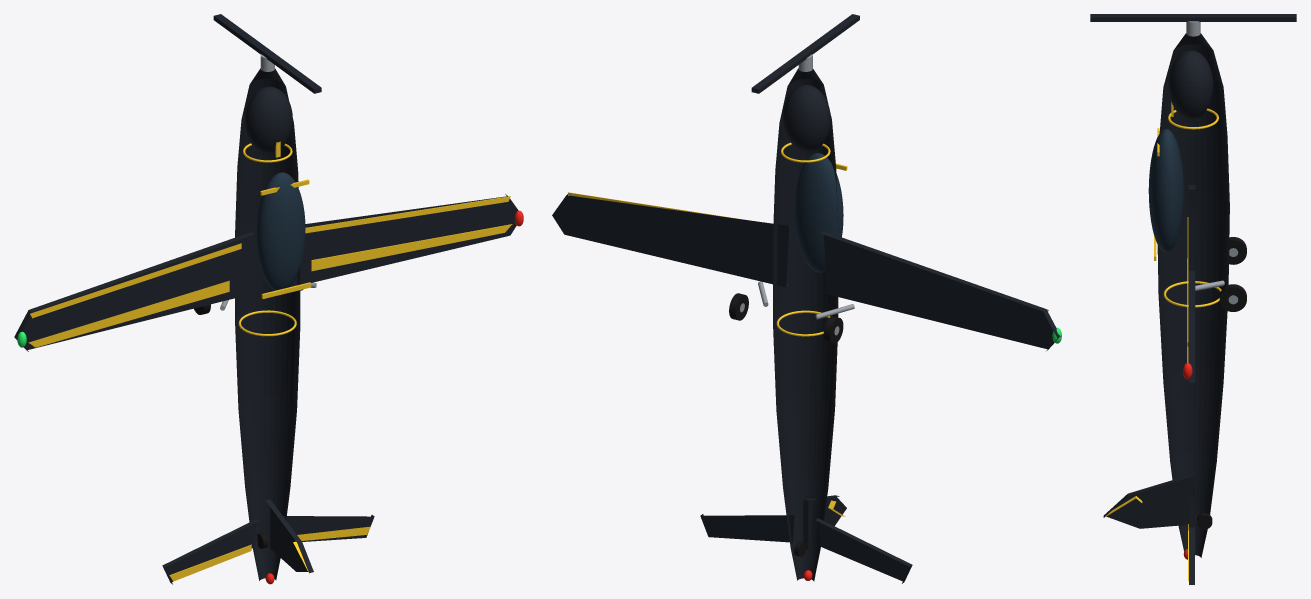
3 renders of one model, left to right at view 1: azimuth 30°, elevation 25°; view 2: azimuth 150°, elevation 25°; view 3: azimuth 270°, elevation 25°, orthographic. The views are drawn at different scales.
Visible parts, largest first — view 1: Fuselage, Left Main Wing, Right Main Wing, Cockpit Canopy, Engine Cowling, Right Wing Yellow Stripe, Left Wing Yellow Stripe, Left Tailplane, Vertical Tail, Right Tailplane, Left Wing Leading Stripe, Right Wing Leading Stripe (+1 smaller); view 2: Fuselage, Left Main Wing, Right Main Wing, Cockpit Canopy, Engine Cowling, Left Tailplane, Right Tailplane, Vertical Tail, Propeller Blade_1; view 3: Fuselage, Cockpit Canopy, Vertical Tail, Engine Cowling, Right Main Wing, Propeller Blade, Propeller Blade_1, Wheel 1.15, Right Tailplane, Wheel -1.15, Fuselage Yellow Band.
Part boxes in pixels (bbox=[...]): Fuselage: bbox=[235, 68, 300, 580]; Left Main Wing: bbox=[14, 232, 253, 351]; Right Main Wing: bbox=[289, 194, 518, 287]; Cockpit Canopy: bbox=[256, 172, 305, 290]; Engine Cowling: bbox=[245, 86, 292, 153]; Right Wing Yellow Stripe: bbox=[311, 224, 512, 271]; Left Wing Yellow Stripe: bbox=[28, 280, 229, 347]; Left Tailplane: bbox=[162, 519, 258, 584]; Vertical Tail: bbox=[265, 499, 313, 573]; Right Tailplane: bbox=[283, 515, 374, 541]; Left Wing Leading Stripe: bbox=[30, 243, 241, 318]; Right Wing Leading Stripe: bbox=[305, 196, 510, 233]; Fuselage: bbox=[773, 68, 838, 581]; Left Main Wing: bbox=[820, 231, 1060, 350]; Right Main Wing: bbox=[552, 193, 789, 287]; Cockpit Canopy: bbox=[794, 153, 843, 272]; Engine Cowling: bbox=[783, 85, 830, 151]; Left Tailplane: bbox=[815, 518, 912, 583]; Right Tailplane: bbox=[700, 514, 794, 542]; Vertical Tail: bbox=[803, 495, 846, 549]; Propeller Blade_1: bbox=[751, 50, 809, 93]; Fuselage: bbox=[1157, 33, 1229, 557]; Cockpit Canopy: bbox=[1148, 129, 1183, 252]; Vertical Tail: bbox=[1103, 474, 1193, 528]; Engine Cowling: bbox=[1168, 50, 1213, 119]; Right Main Wing: bbox=[1188, 205, 1195, 382]; Propeller Blade: bbox=[1090, 14, 1194, 21]; Propeller Blade_1: bbox=[1192, 14, 1296, 21]; Wheel 1.15: bbox=[1219, 284, 1246, 311]; Right Tailplane: bbox=[1189, 497, 1194, 584]; Wheel -1.15: bbox=[1229, 237, 1246, 264]; Fuselage Yellow Band: bbox=[1163, 281, 1221, 307].
Size of the model in its own units: 12.3 by 12.34 by 4.25.
